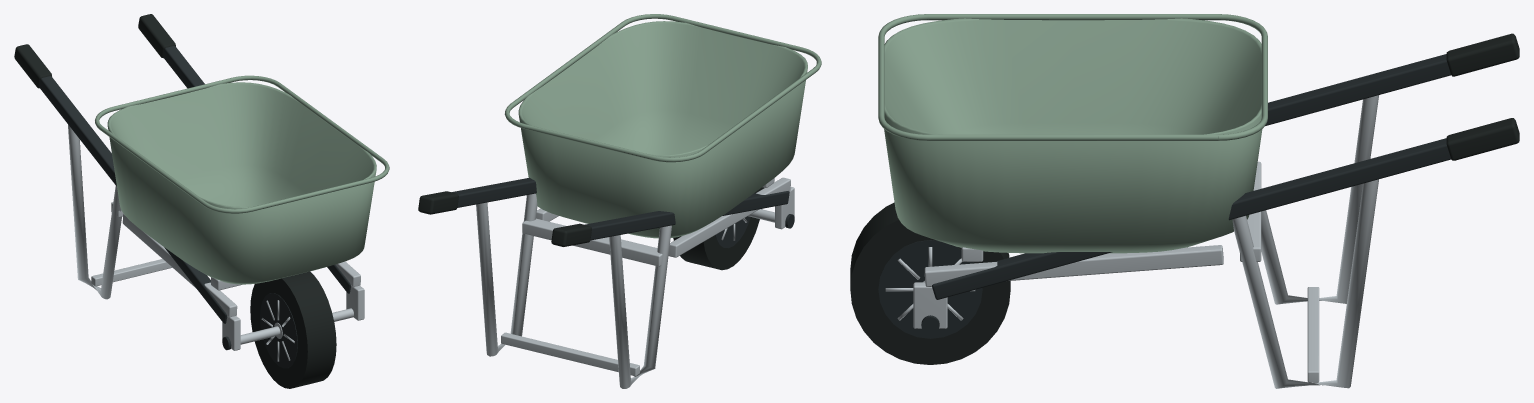
Rendered from steel-wheelbarrow.glb.
3 renders of one model, left to right at view 1: azimuth 30°, elevation 25°; view 2: azimuth 150°, elevation 25°; view 3: azimuth 270°, elevation 25°, orthographic. The views are drawn at different scales.
Visible parts, largest first — view 1: steel-wheelbarrow authored assembly; view 2: steel-wheelbarrow authored assembly; view 3: steel-wheelbarrow authored assembly.
Part boxes in pixels (left/top/right/bottom): steel-wheelbarrow authored assembly: left=14, top=14, right=389, bottom=388; steel-wheelbarrow authored assembly: left=418, top=14, right=821, bottom=388; steel-wheelbarrow authored assembly: left=850, top=14, right=1519, bottom=388.
Bounding box in the file's own units: 0.65 × 0.69 × 1.49.
